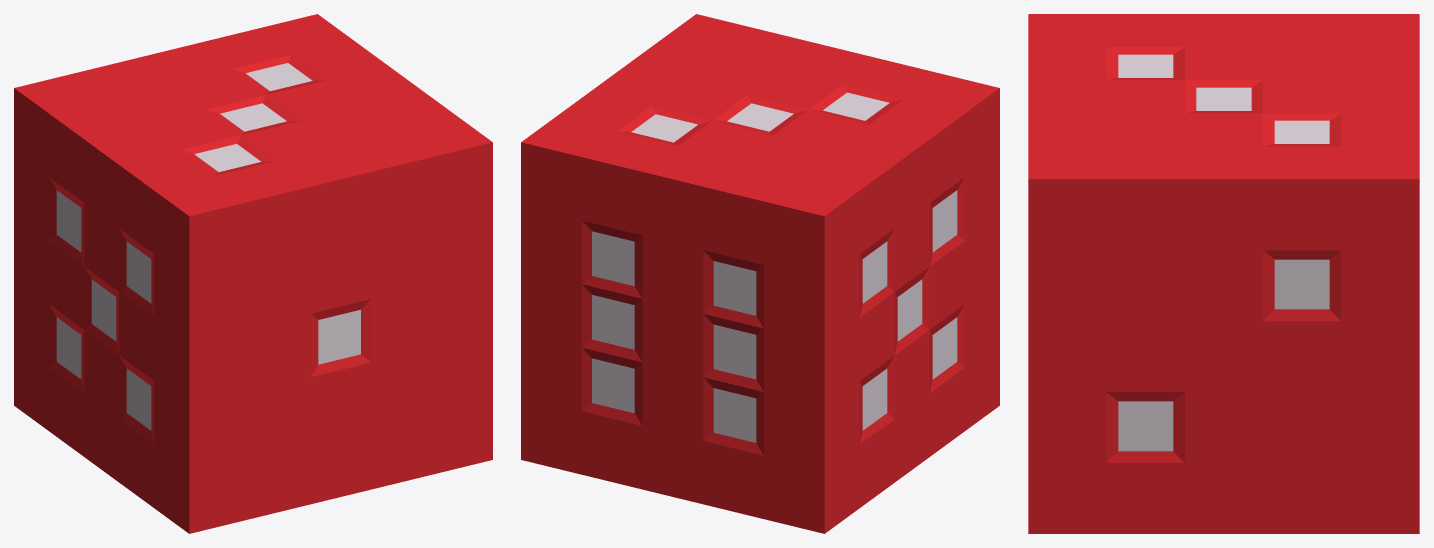
Rendered from die.fbx.
The picture shows the model from 3 angles, left to right: view 1: azimuth 30°, elevation 25°; view 2: azimuth 150°, elevation 25°; view 3: azimuth 270°, elevation 25°; orthographic projection. The views are drawn at different scales.
Visible parts, largest first — view 1: Cube; view 2: Cube; view 3: Cube.
Part boxes in pixels (<box>): Cube: <box>14,14,492,533</box>; Cube: <box>521,14,999,533</box>; Cube: <box>1028,14,1419,533</box>.
Size of the model in its own units: 2 by 2 by 2.
